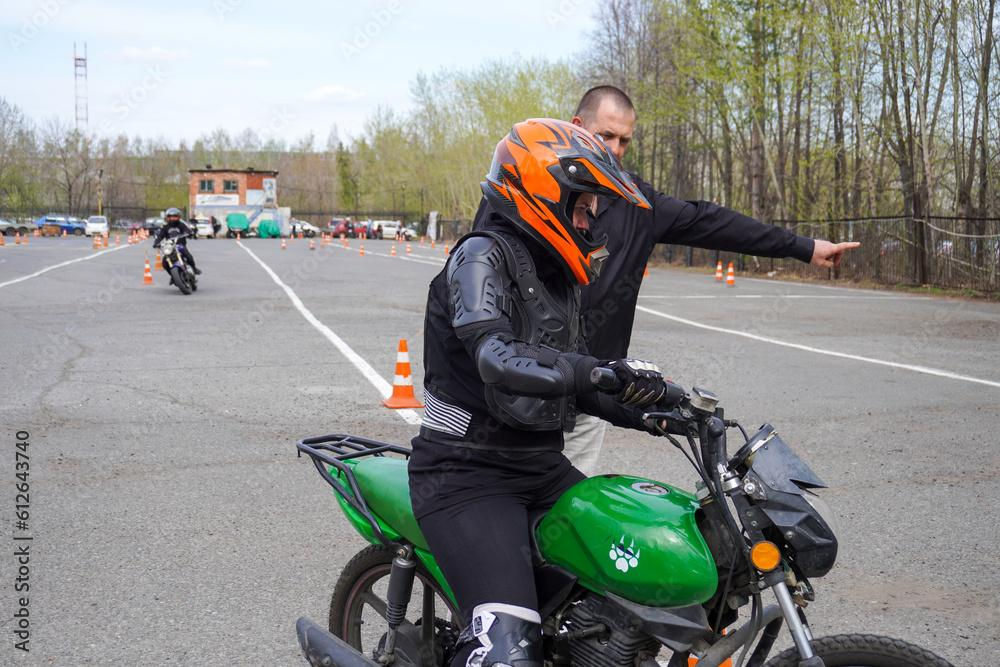helmet: (479, 116, 654, 288)
nohelmet: (569, 84, 638, 177)
